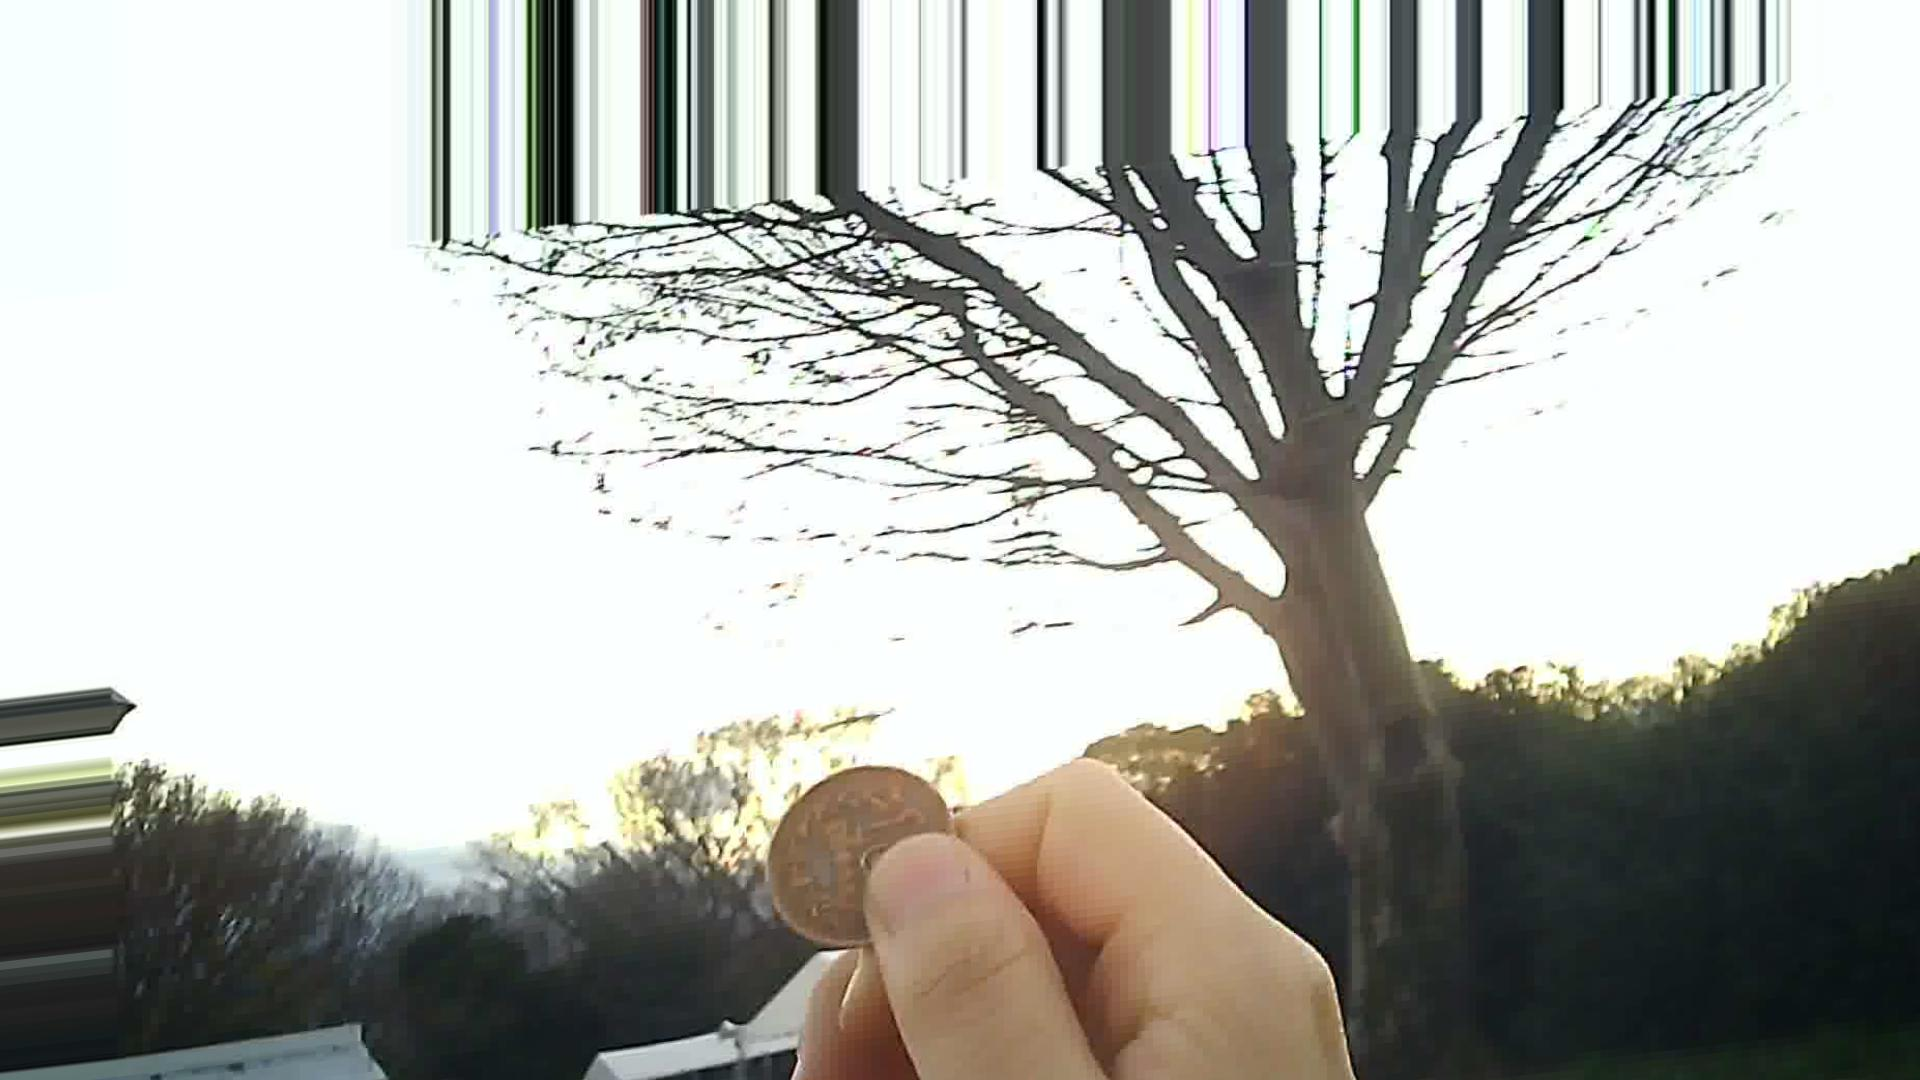10 Yen: (762, 752, 965, 945)
